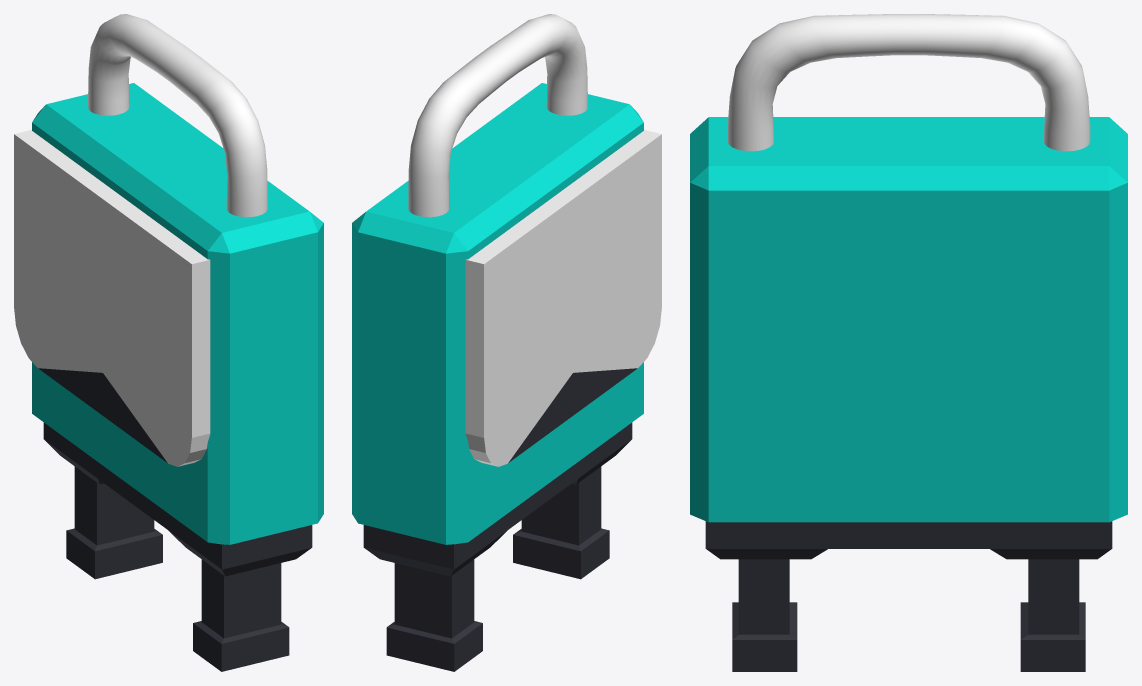
The model's file is Key_Lock_Teal.fbx.
The picture shows the model from 3 angles, left to right: view 1: azimuth 30°, elevation 25°; view 2: azimuth 150°, elevation 25°; view 3: azimuth 270°, elevation 25°; orthographic projection. The views are drawn at different scales.
Parts seen in each view (by area): view 1: Key_Lock_Teal; view 2: Key_Lock_Teal; view 3: Key_Lock_Teal.
Boxes of the visible parts, left/top/right/bottom form: Key_Lock_Teal: left=14, top=14, right=323, bottom=671; Key_Lock_Teal: left=352, top=14, right=661, bottom=671; Key_Lock_Teal: left=690, top=14, right=1127, bottom=671.
Bounding box in the file's own units: 15.19 × 60.97 × 37.98.
